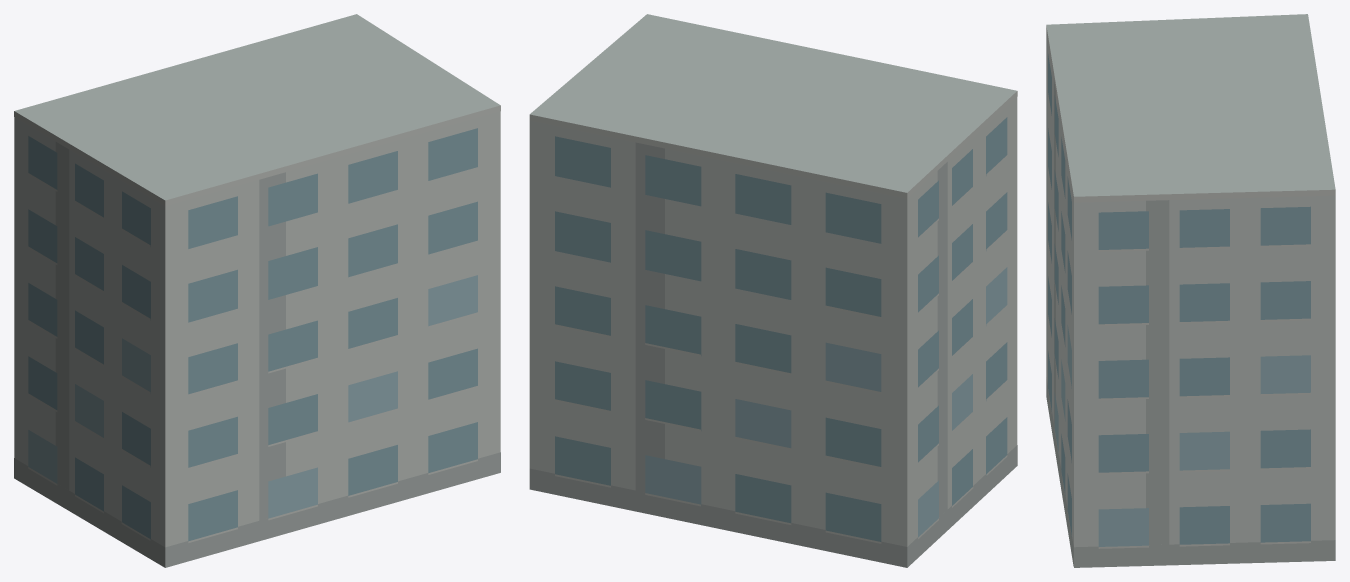
File: survey-upis-33016104.glb
3 views of the same model, side by side, from view 1: azimuth 30°, elevation 25°; view 2: azimuth 150°, elevation 25°; view 3: azimuth 270°, elevation 25° (orthographic). The views are drawn at different scales.
Visible parts, largest first — view 1: survey-upis-33016104.tmp; view 2: survey-upis-33016104.tmp; view 3: survey-upis-33016104.tmp.
Part boxes in pixels (bbox=[...]): survey-upis-33016104.tmp: bbox=[14, 14, 500, 567]; survey-upis-33016104.tmp: bbox=[529, 14, 1017, 567]; survey-upis-33016104.tmp: bbox=[1046, 14, 1335, 567].
Size of the model in its own units: 16.12 by 15.25 by 10.79.
